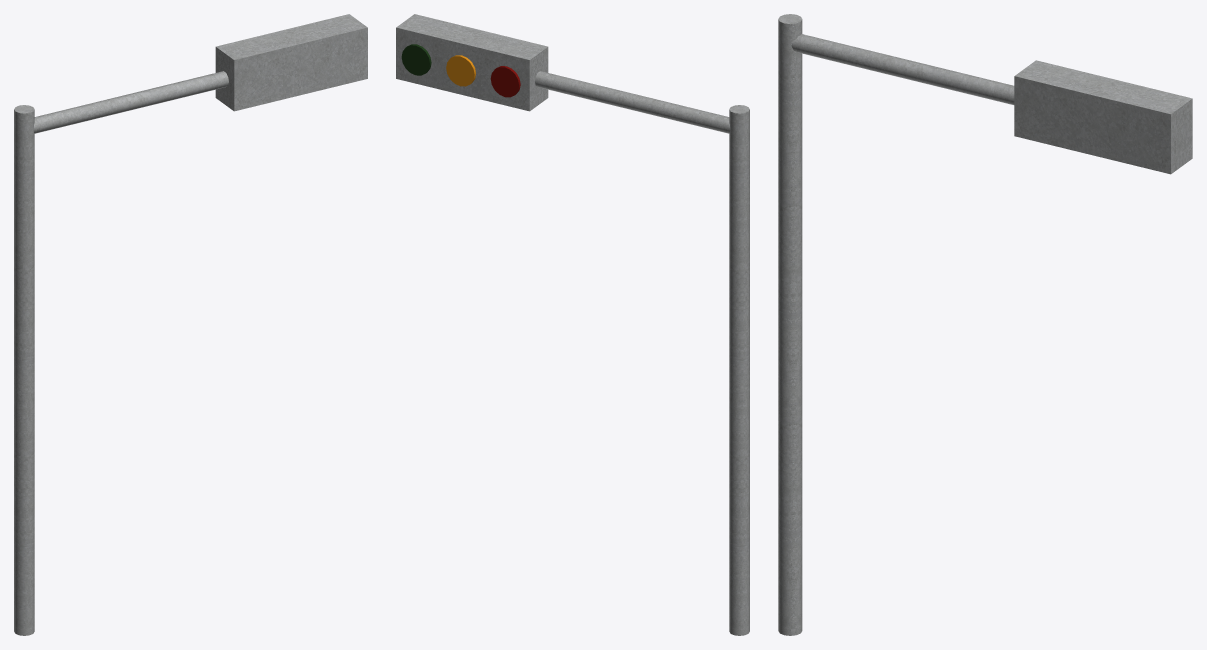
The model's file is traffic_signal.obj.
3 views of the same model, side by side, from view 1: azimuth 30°, elevation 25°; view 2: azimuth 150°, elevation 25°; view 3: azimuth 330°, elevation 25° (orthographic). The views are drawn at different scales.
Visible parts, largest first — view 1: Dark_Frame; view 2: Dark_Frame, Foliage, Yellow_Paint, Safety_Red; view 3: Dark_Frame.
Boxes of the visible parts, x1,y1,x2,y2 form: Dark_Frame: (14,14,367,635); Dark_Frame: (396,14,749,635); Foliage: (401,44,431,75); Yellow_Paint: (446,55,475,86); Safety_Red: (490,66,520,97); Dark_Frame: (778,14,1192,635).
Bounding box in the file's own units: 3.85 × 5.68 × 0.41.
